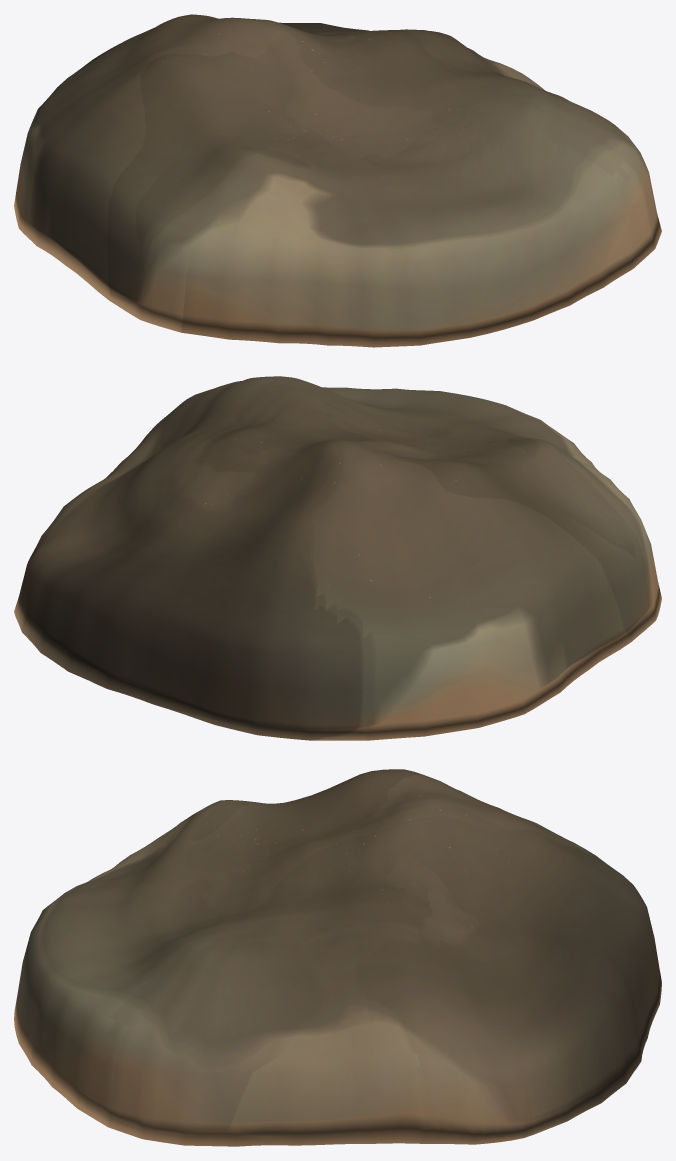
File: Tas5.fbx
3 renders of one model, top to bottom at view 1: azimuth 30°, elevation 25°; view 2: azimuth 150°, elevation 25°; view 3: azimuth 270°, elevation 25°, orthographic. The views are drawn at different scales.
Visible parts, largest first — view 1: Cube.061; view 2: Cube.061; view 3: Cube.061.
Boxes of the visible parts, <box> form: Cube.061: <box>14,14,661,347</box>; Cube.061: <box>14,376,661,740</box>; Cube.061: <box>14,769,661,1146</box>.
Bounding box in the file's own units: 543 × 190 × 580.
Materials: 1 (1 with a texture image).
